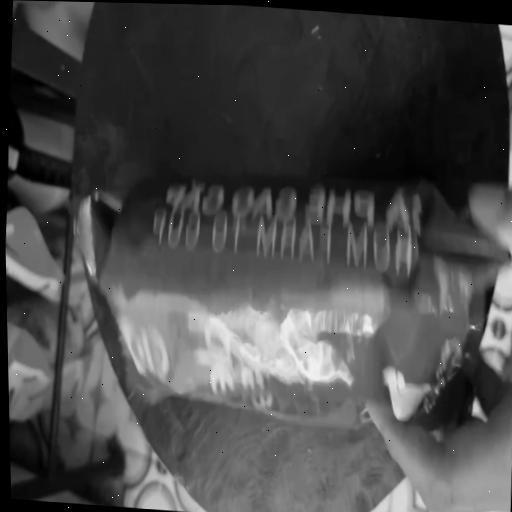cafe_xay: (74, 176, 509, 428)
